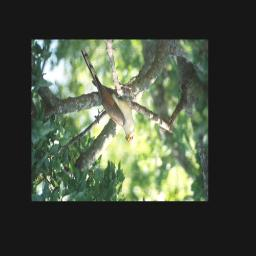Cuckoo: (79, 46, 136, 145)
